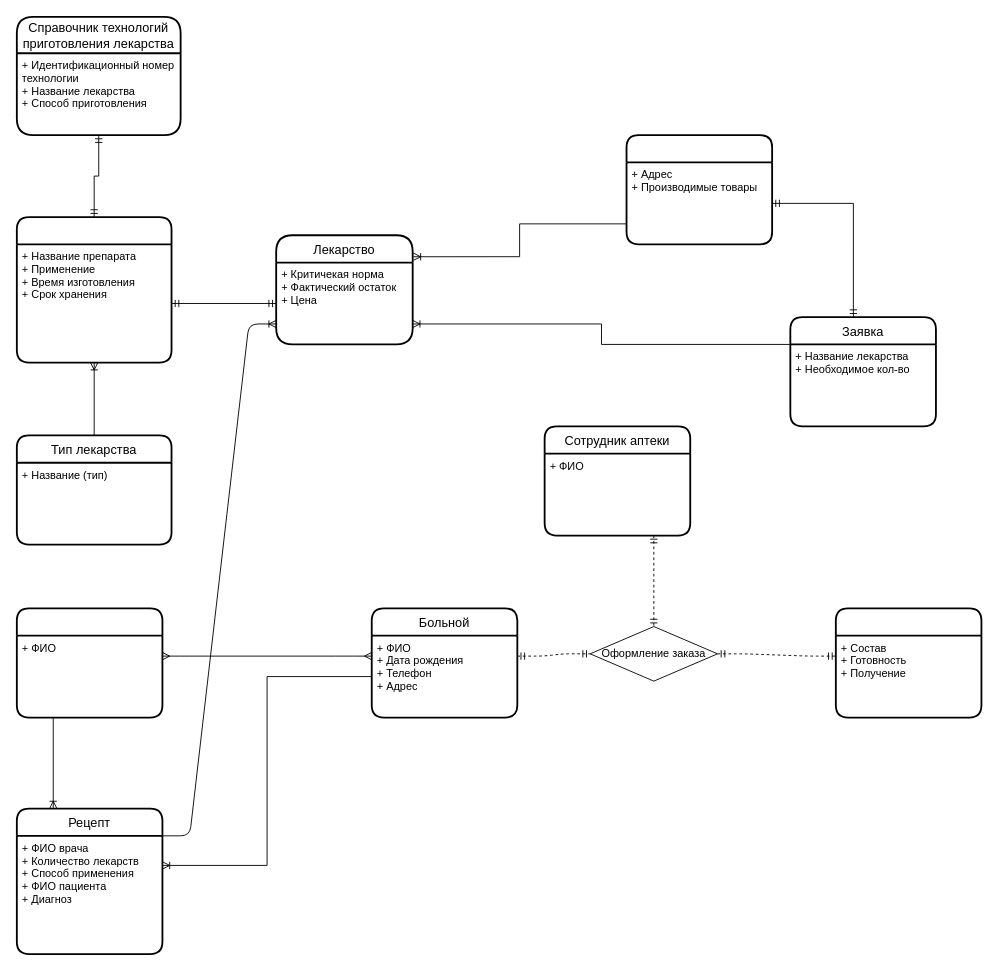
Some shapes in this 997 by 970 pixel diagram are drawn without their labels. Here are the shapes that lost their labels. From the top down, the box of each, then its label:
(625, 134, 773, 245): Поставщик
(15, 216, 172, 363): Справочник лекарств
(15, 607, 163, 718): Врач
(834, 607, 982, 718): Заказ
